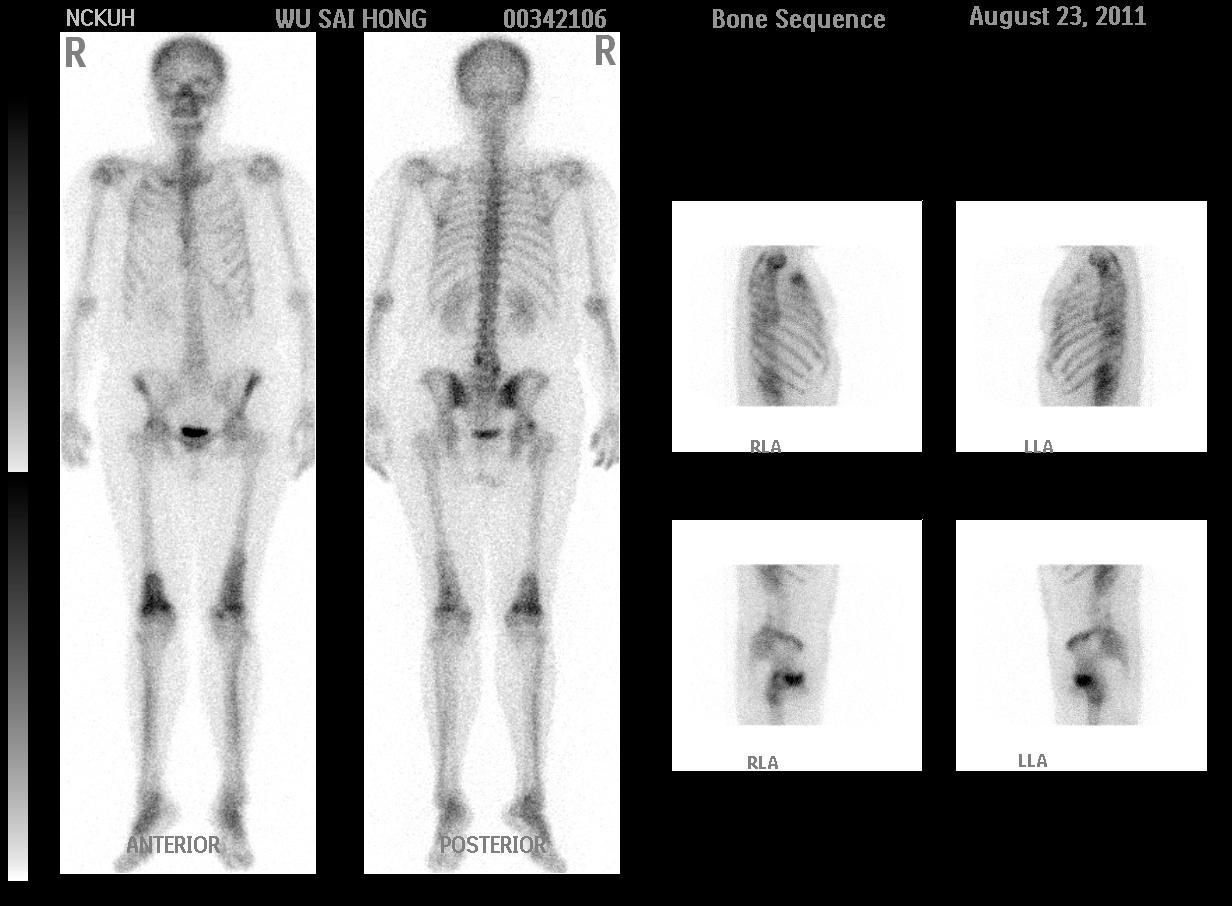person: (58, 30, 622, 874)
